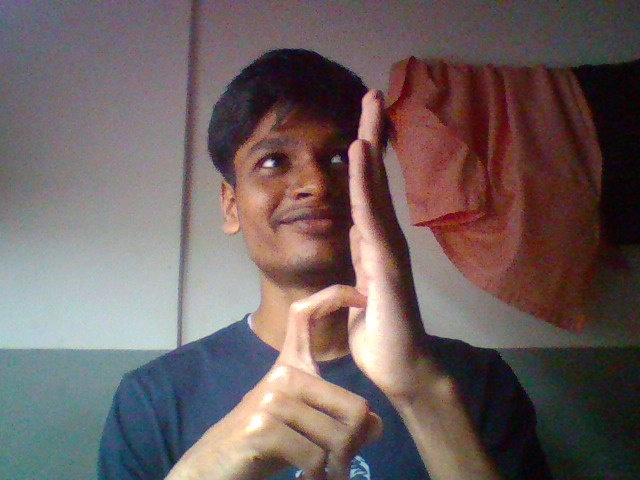H: (191, 66, 501, 480)
